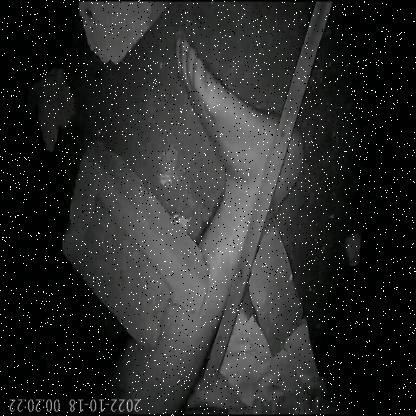leg: (124, 17, 318, 394)
